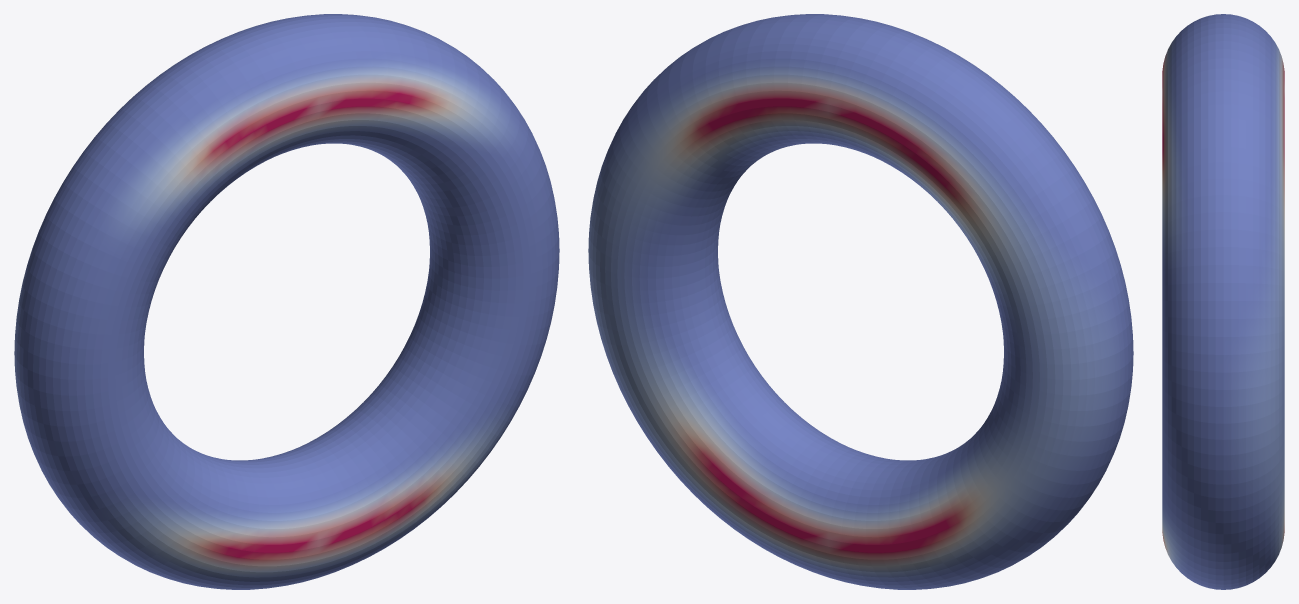
The picture shows the model from 3 angles, left to right: view 1: azimuth 30°, elevation 25°; view 2: azimuth 150°, elevation 25°; view 3: azimuth 270°, elevation 25°; orthographic projection. The views are drawn at different scales.
Parts seen in each view (by area): view 1: world; view 2: world; view 3: world.
Part boxes in pixels (x1,y1,x2,y2): world: [14, 14, 559, 589]; world: [588, 14, 1133, 589]; world: [1162, 14, 1284, 589].
Size of the model in its own units: 16.93 by 16.93 by 3.59.
